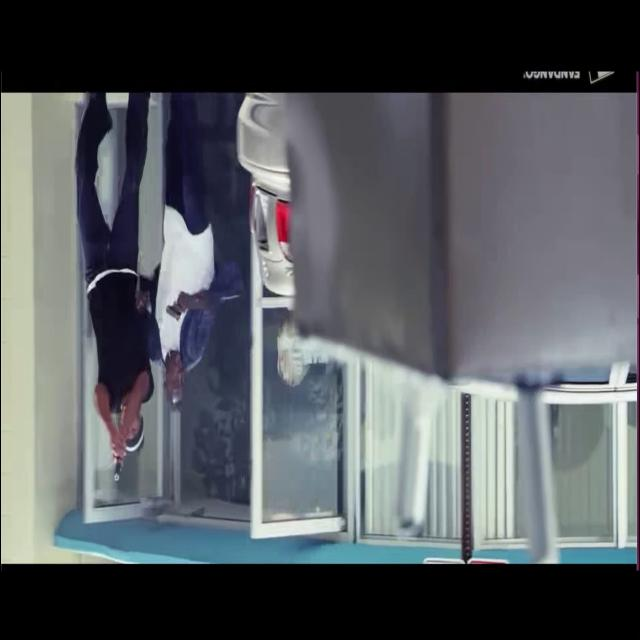weapons: (106, 420, 128, 498), (161, 281, 187, 333)
